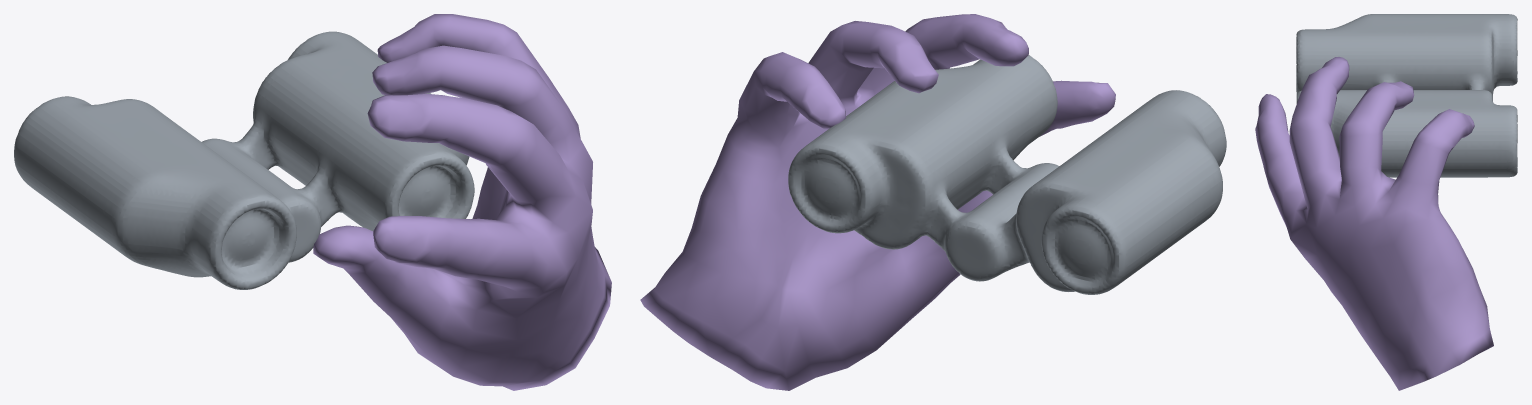
Rendered from ours_0.glb.
3 renders of one model, left to right at view 1: azimuth 30°, elevation 25°; view 2: azimuth 150°, elevation 25°; view 3: azimuth 270°, elevation 25°, orthographic. The views are drawn at different scales.
Bounding box in the file's own units: 0.2186 × 0.1451 × 0.1291.
